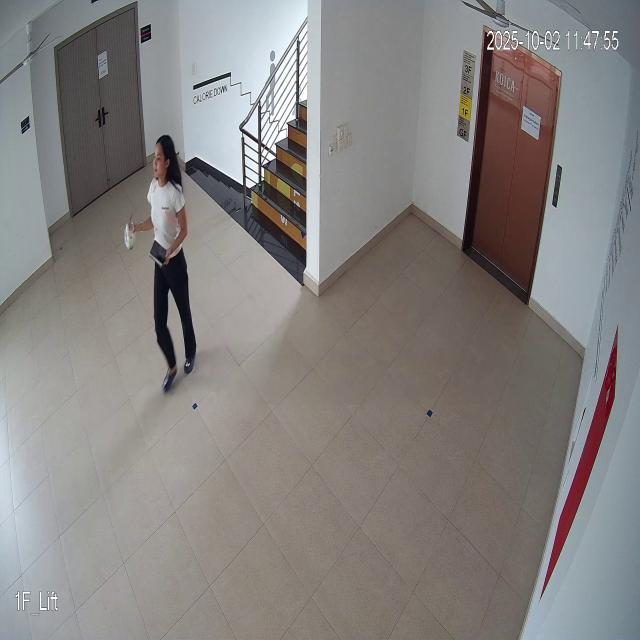face: (152, 128, 178, 191)
